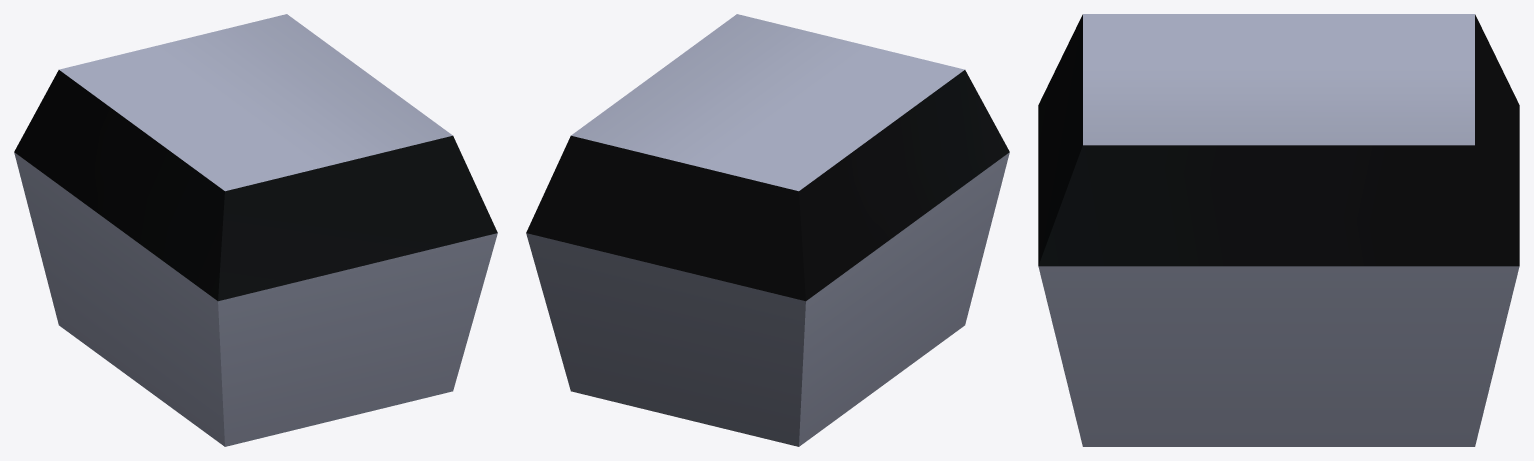
The picture shows the model from 3 angles, left to right: view 1: azimuth 30°, elevation 25°; view 2: azimuth 150°, elevation 25°; view 3: azimuth 270°, elevation 25°; orthographic projection. The views are drawn at different scales.
Parts seen in each view (by area): view 1: Куб.082; view 2: Куб.082; view 3: Куб.082.
Boxes of the visible parts, x1,y1,x2,y2 form: Куб.082: (14,14,497,446); Куб.082: (526,14,1009,446); Куб.082: (1038,14,1519,446).
Bounding box in the file's own units: 70.23 × 61.31 × 88.64.
